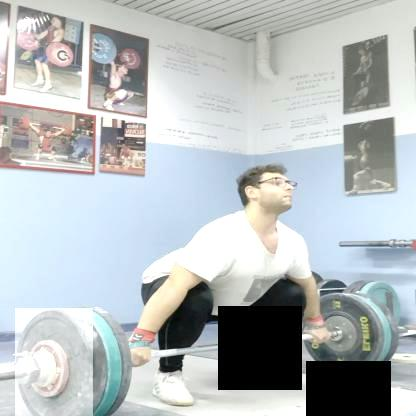barbell: (14, 308, 92, 416), (301, 293, 382, 374)
